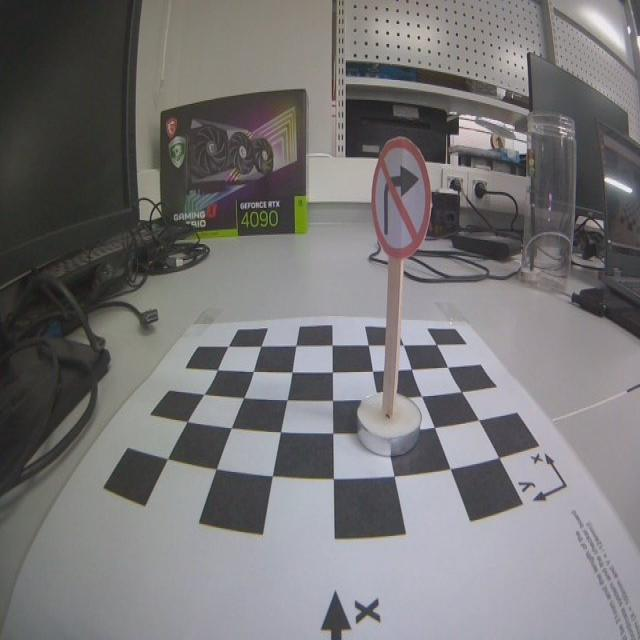Dilarang Belok Kanan: (372, 138, 431, 258)
